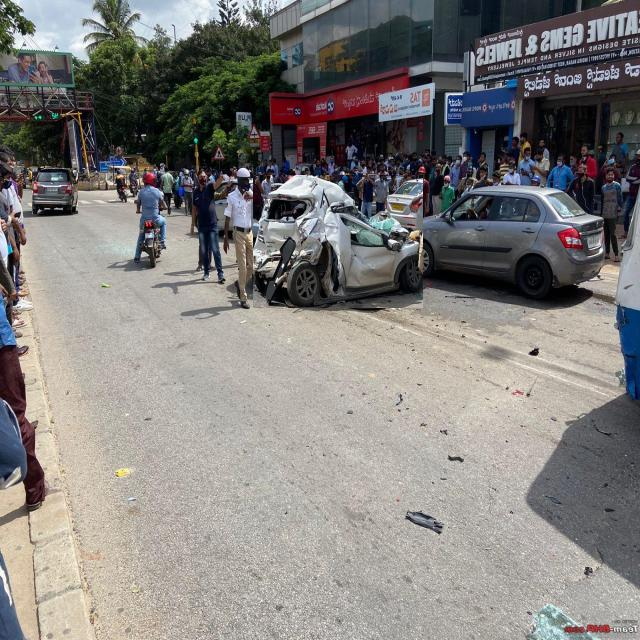accident: (253, 175, 422, 308)
car: (419, 187, 605, 298), (32, 169, 78, 214)
motorcycle: (135, 173, 166, 266)
